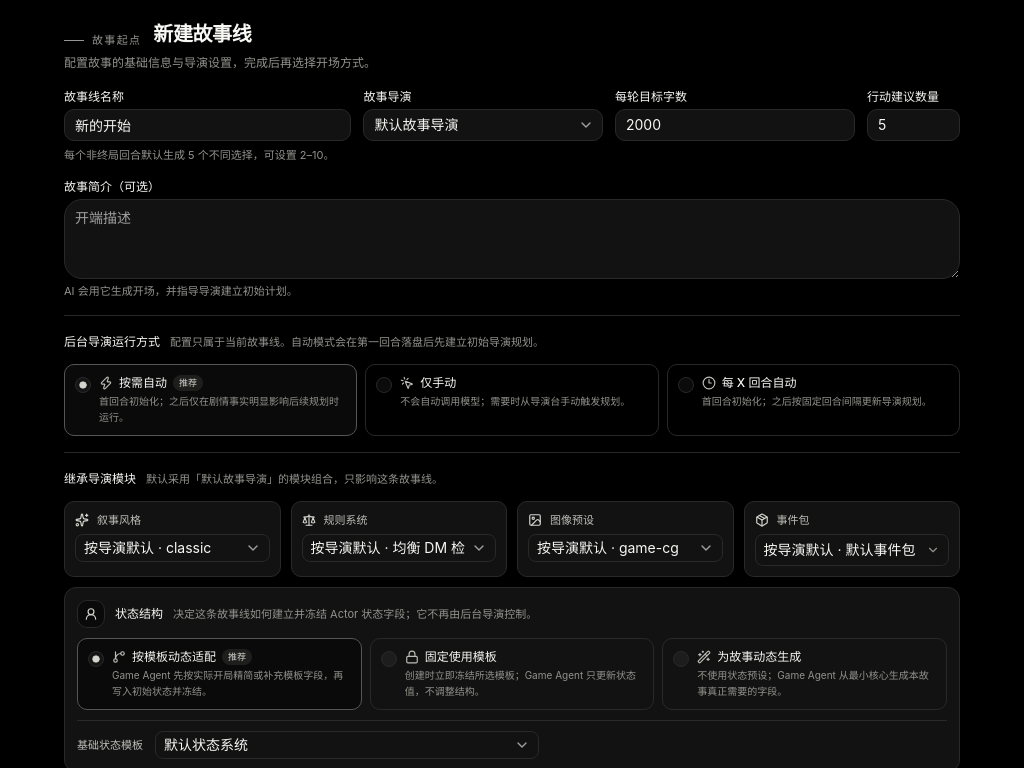
NewStorySetupPanel › uses preset resource names and options for inherited director modules
Expected: the text "按导演默认 · 均衡 DM 检定" is shown, [310,538,465,558]
Expected: the text "默认状态系统" is shown, [164,735,248,755]
What coordinates should you click on to do the following:
click the dropdown named "基础状态模板"
I would click on:
 (206, 745)
Its box is [155,731,539,759].
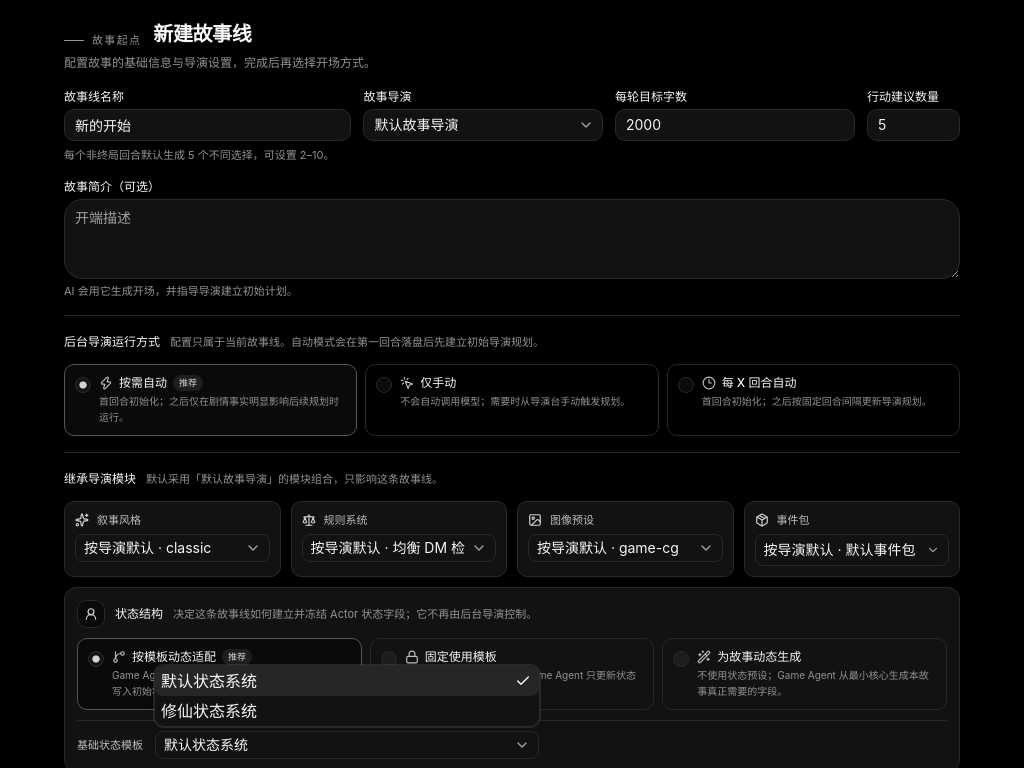
Expected: the option "修仙状态系统" is shown, [161,701,257,721]
